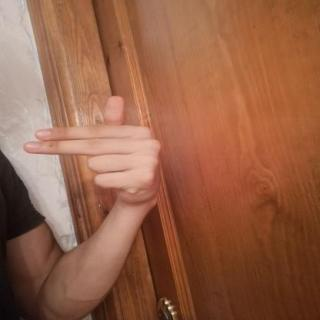GHAYN: (12, 89, 176, 208)
